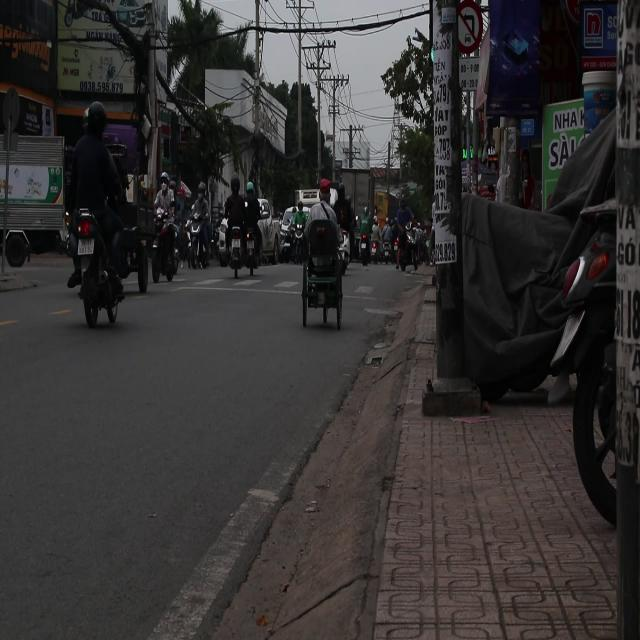motorbike: (69, 206, 129, 329), (223, 218, 261, 280), (152, 215, 183, 285), (278, 206, 309, 264), (186, 216, 211, 270)
truck: (1, 79, 70, 272)
